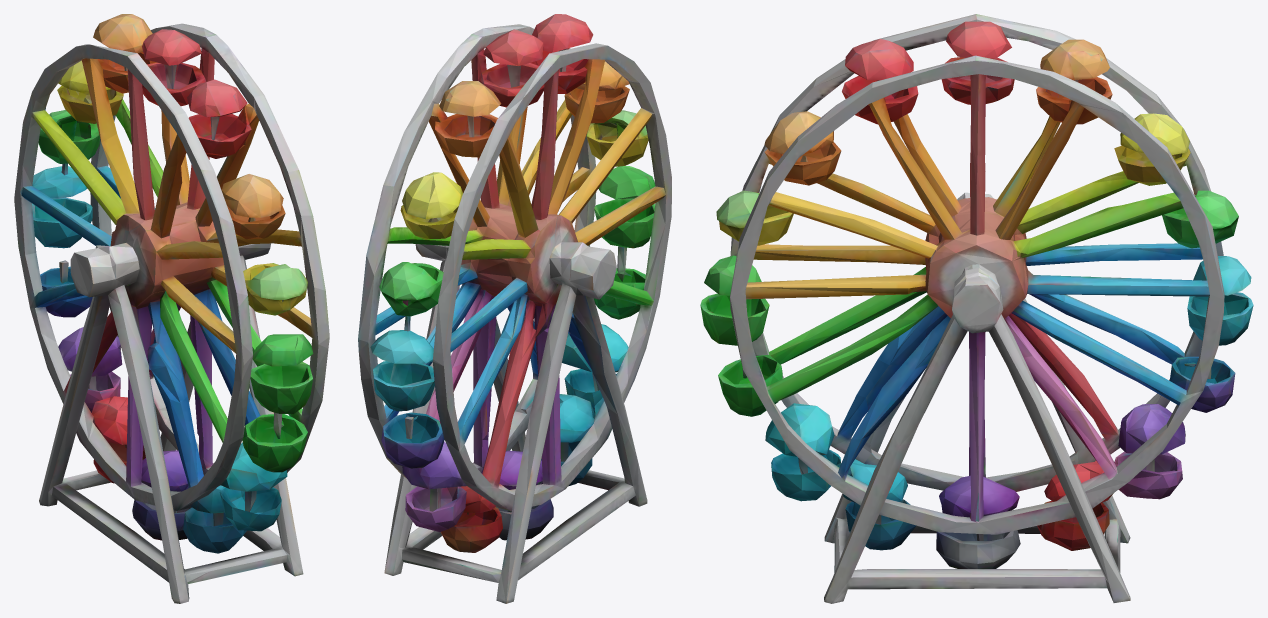
The model's file is ferris.glb.
3 views of the same model, side by side, from view 1: azimuth 30°, elevation 25°; view 2: azimuth 150°, elevation 25°; view 3: azimuth 270°, elevation 25° (orthographic). The views are drawn at different scales.
Visible parts, largest first — view 1: geometry_0; view 2: geometry_0; view 3: geometry_0.
Boxes of the visible parts, x1,y1,x2,y2 form: geometry_0: [14, 14, 329, 603]; geometry_0: [358, 14, 671, 603]; geometry_0: [700, 14, 1253, 603].
Size of the model in its own units: 0.3739 by 0.9937 by 0.9116.
1 material, 1 textured.
